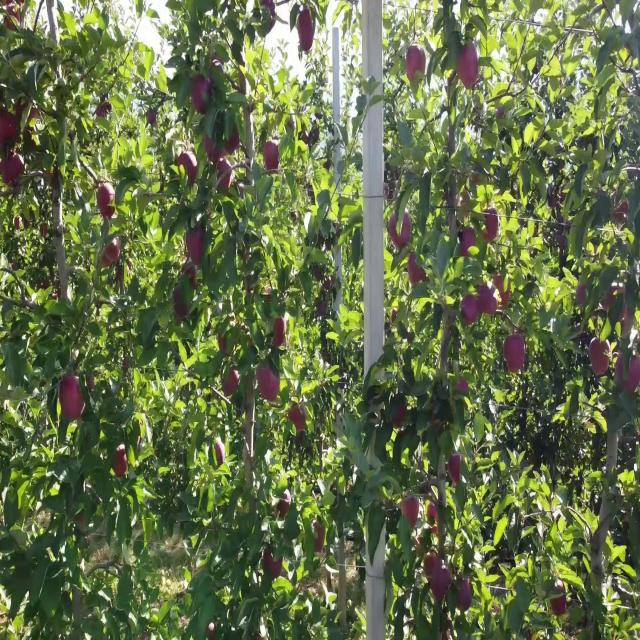apple: (456, 42, 480, 92), (604, 284, 631, 325), (60, 376, 84, 421), (504, 334, 527, 377), (616, 355, 640, 396), (392, 213, 412, 251), (260, 369, 280, 405), (432, 568, 452, 604), (592, 341, 611, 377), (192, 78, 211, 114), (492, 277, 512, 309), (456, 575, 473, 612), (408, 49, 428, 80), (188, 227, 204, 265), (484, 206, 500, 244), (480, 284, 497, 318), (464, 291, 480, 327), (100, 184, 116, 220), (552, 583, 568, 619), (408, 255, 427, 284), (180, 156, 199, 185), (16, 106, 36, 133), (204, 135, 222, 164), (460, 227, 476, 258), (104, 241, 121, 270), (424, 554, 442, 580), (404, 497, 420, 526), (264, 142, 280, 171), (224, 127, 240, 156), (224, 369, 240, 398), (300, 7, 315, 37), (292, 405, 307, 434), (448, 455, 462, 485), (4, 7, 21, 30), (8, 156, 24, 180), (300, 28, 316, 52), (4, 113, 17, 142), (176, 291, 189, 320), (208, 56, 221, 84), (184, 263, 197, 290), (116, 447, 128, 476), (220, 163, 232, 192), (428, 504, 440, 533), (264, 0, 276, 28), (616, 199, 629, 224), (276, 319, 287, 348), (316, 526, 326, 555), (576, 284, 588, 308), (396, 405, 408, 427), (300, 35, 315, 52), (280, 497, 292, 517), (272, 561, 284, 580), (264, 547, 273, 569), (216, 440, 224, 464), (220, 334, 229, 354), (4, 163, 12, 185), (44, 170, 59, 181), (268, 7, 276, 27), (460, 376, 469, 393), (88, 376, 96, 391), (552, 191, 559, 208), (148, 113, 156, 126)
